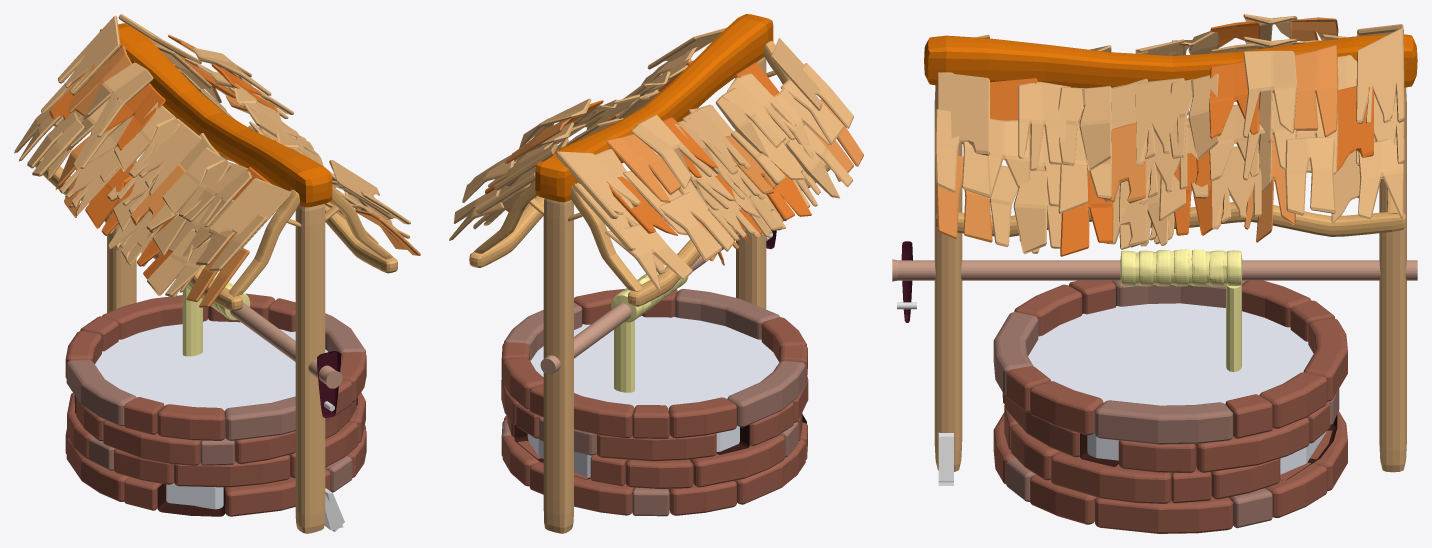
Rendered from poso_agua.fbx.
3 renders of one model, left to right at view 1: azimuth 30°, elevation 25°; view 2: azimuth 150°, elevation 25°; view 3: azimuth 270°, elevation 25°, orthographic. The views are drawn at different scales.
Visible parts, largest first — view 1: Plane.016, Cube.010, Cylinder.004, Cube, Cube.003, Cube.001, Cube.002, Cylinder, Cylinder.003, Cube.006, Cube.005; view 2: Plane.016, Cube.010, Cylinder.004, Cube, Cube.003, Cube.001, Cube.002, Cylinder, Cylinder.003, Cylinder.002; view 3: Plane.016, Cube.010, Cylinder.004, Cube, Cube.003, Cylinder, Cylinder.002, Cube.002, Cylinder.003, Cube.005.
Boxes of the visible parts, x1,y1,x2,y2 form: Plane.016: (14, 14, 420, 307); Cube.010: (65, 293, 366, 516); Cylinder.004: (95, 318, 327, 509); Cube: (107, 149, 325, 533); Cube.003: (99, 23, 332, 207); Cube.001: (43, 154, 393, 296); Cube.002: (35, 152, 397, 311); Cylinder: (104, 218, 342, 388); Cylinder.003: (182, 288, 202, 356); Cube.006: (317, 351, 341, 418); Cube.005: (324, 488, 344, 531); Plane.016: (449, 27, 863, 292); Cube.010: (501, 288, 808, 516); Cylinder.004: (527, 316, 778, 477); Cube: (543, 57, 766, 533); Cube.003: (535, 14, 773, 202); Cube.001: (474, 41, 789, 291); Cube.002: (469, 148, 830, 306); Cylinder: (540, 228, 746, 374); Cylinder.003: (614, 320, 634, 392); Cylinder.002: (611, 264, 688, 322); Plane.016: (935, 14, 1404, 256); Cube.010: (993, 280, 1347, 533); Cylinder.004: (1028, 303, 1326, 476); Cube: (934, 85, 1406, 472); Cube.003: (924, 34, 1417, 92); Cylinder: (892, 259, 1417, 281); Cylinder.002: (1120, 249, 1242, 286); Cube.002: (935, 113, 1405, 236); Cylinder.003: (1226, 283, 1241, 371); Cube.005: (938, 432, 953, 485).
Size of the model in its own units: 426 by 593 by 632.
